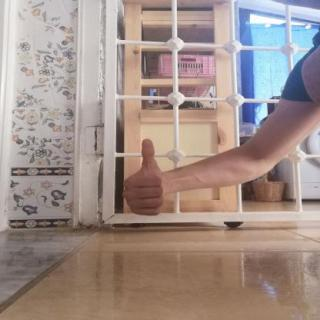ALIF: (110, 131, 178, 224)
